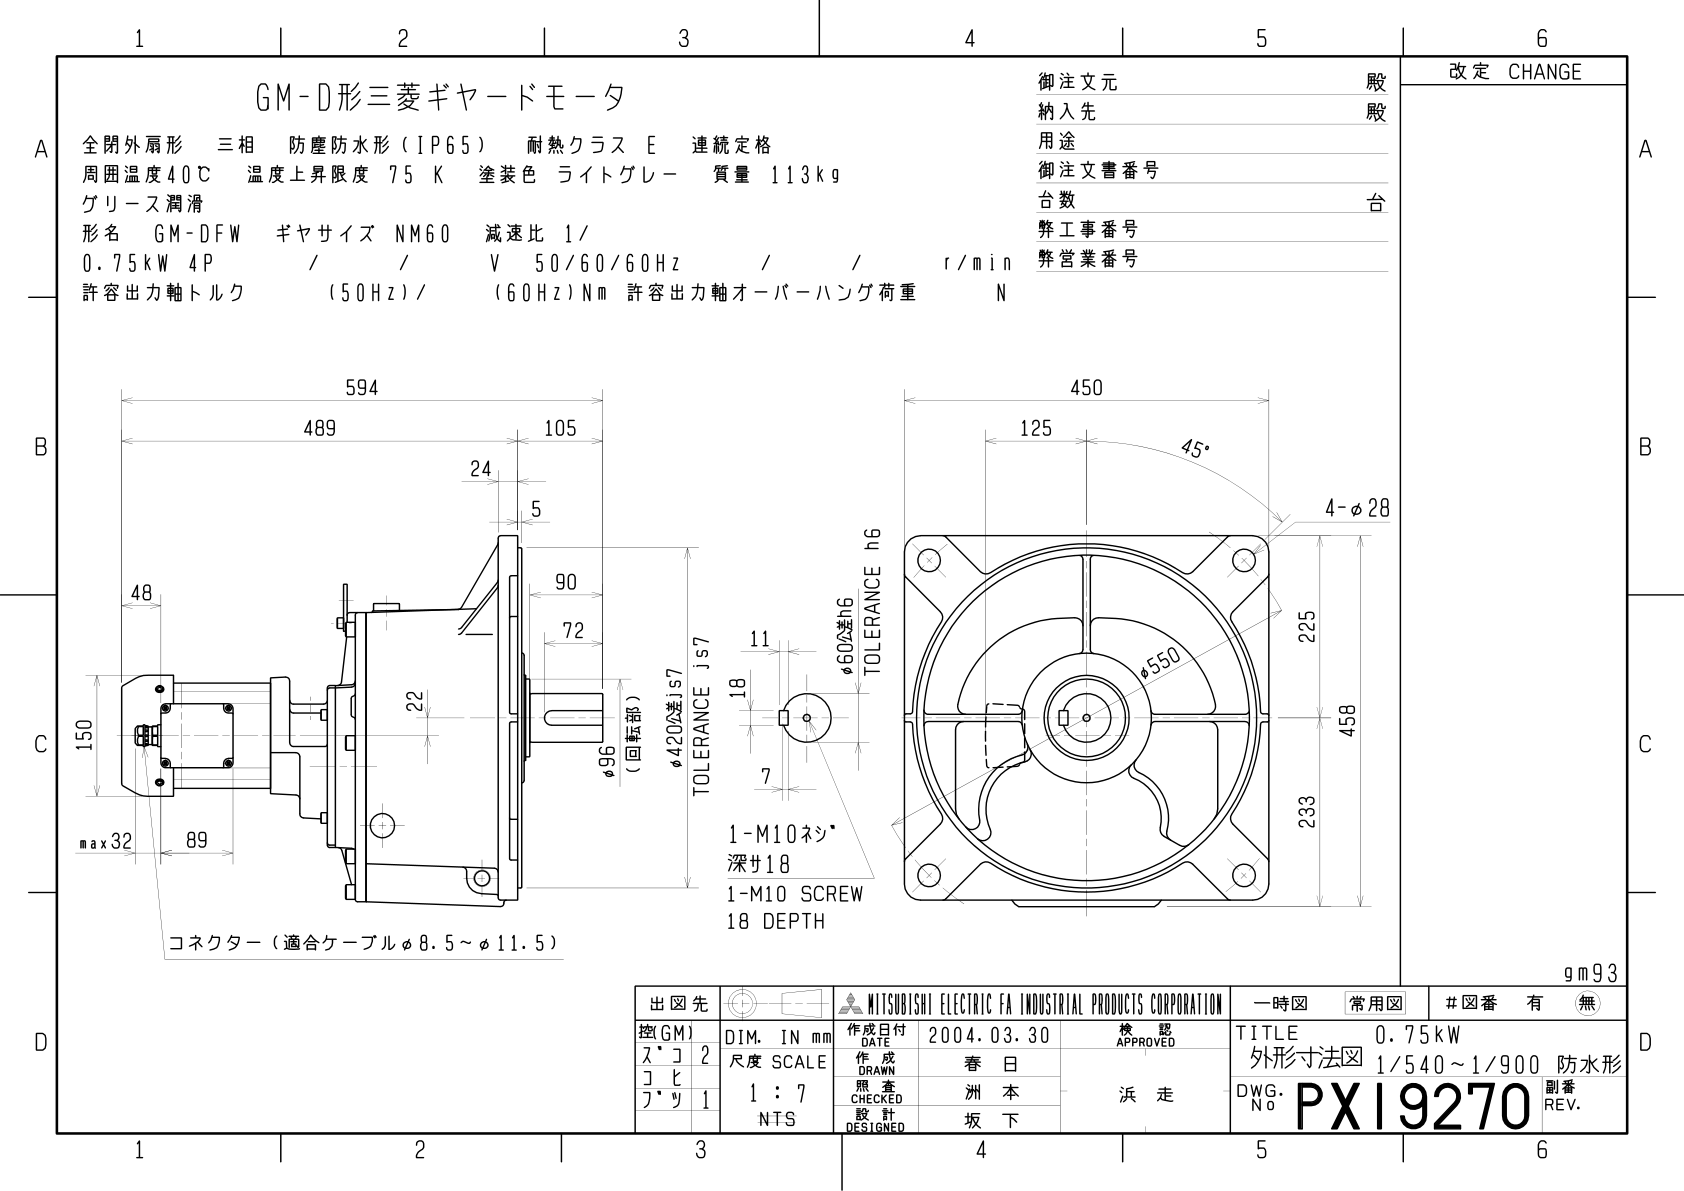GM_D_IP65_三相_フランジ: (58, 349, 1397, 962)
